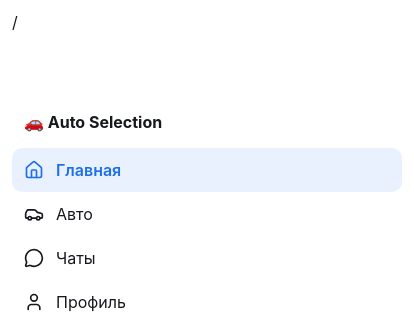
Scenario: Shell: десктоп-sidebar (>= 768px) › клик по пункту sidebar переключает маршрут
Click the button "Чаты": (76, 258) [12,236,402,280]
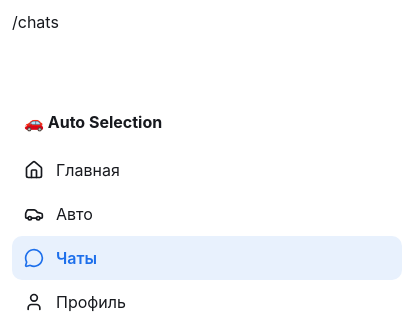
Expected: the text with test id "location" reads "/chats", [12,12,59,32]
